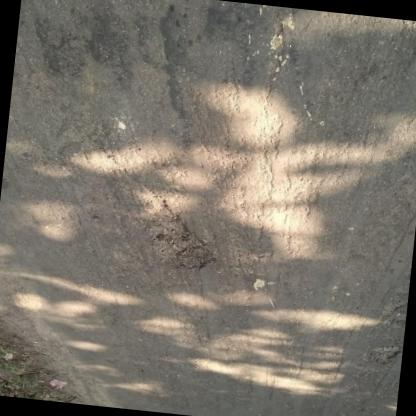pothole: (140, 190, 223, 275), (367, 342, 402, 368)
